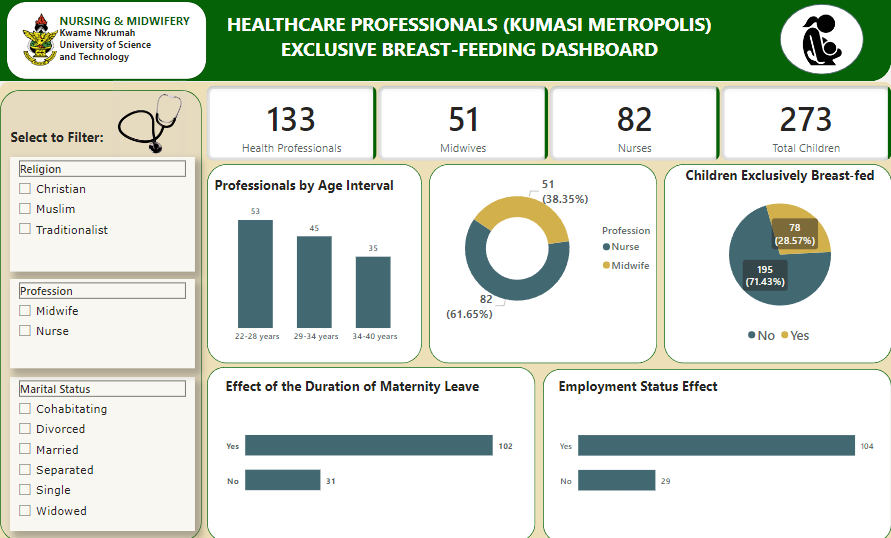

The page's visual inventory and layout, read from the dashboard file:
{"tool":"powerbi","page":{"name":"Dashboard","canvas":[1280,785],"ordinal":0},"visuals":[{"type":"shape","box":[0,122.3,1268.4,661],"z":0},{"type":"shape","box":[0,134.1,286.9,641.8],"z":1000},{"type":"shape","box":[772.6,529.8,495.8,246.2],"z":2000},{"type":"shape","box":[293.7,528.1,466.9,247.9],"z":3000},{"type":"shape","box":[609.6,239.4,324.3,283.6],"z":4000},{"type":"shape","box":[0,0,1267.7,121.5],"z":5000},{"type":"textbox","box":[294.3,15.6,746,99.7],"z":6000},{"type":"shape","box":[9,6.5,286,112.1],"z":7000,"group":"g1"},{"type":"shape","box":[293.7,239.4,305.6,283.6],"z":7000},{"type":"image","box":[9,19,102.8,84.1],"z":8000,"group":"g1"},{"type":"image","box":[161.3,118.9,103.6,125.6],"z":8000},{"type":"textbox","box":[80.6,19,218,46.7],"z":9000,"group":"g1"},{"type":"cardVisual","fields":{"Data":["Exclusive BreastFeeding.Profession","Mid.Profession","nurs.Profession","Exclusive BreastFeeding.Number of Children"]},"box":[288.6,122.3,986.5,117.2],"z":9000},{"type":"textbox","box":[80.3,37.6,154.5,74.7],"z":10000,"group":"g1"},{"type":"donutChart","fields":{"Category":["Exclusive BreastFeeding.Profession"],"Y":["Exclusive BreastFeeding.Total Professinals"]},"box":[609.6,241.1,343,234.3],"z":10000},{"type":"clusteredColumnChart","title":"Professionals by Age Interval","fields":{"Category":["Exclusive BreastFeeding.Age Interval"],"Y":["Exclusive BreastFeeding.Total Professinals"]},"box":[300.5,256.4,298.8,246.2],"z":11000},{"type":"shape","box":[944,239.4,324.3,283.6],"z":12000},{"type":"pieChart","title":"Children Exclusively Breast-fed","fields":{"Category":["Exclusive BreastFeeding.Practiced Exclusive Breastfeeding for all Children"],"Y":["Exclusive BreastFeeding.Number of Children"]},"box":[942.4,241.1,332.8,261.5],"z":13000},{"type":"clusteredBarChart","title":"Effect of the Duration of Maternity Leave","fields":{"Category":["Exclusive BreastFeeding.Duration of Maternity leave affect your practice of exclusive breastfeeding"],"Y":["Exclusive BreastFeeding.Total Professinals"]},"box":[315.3,541.8,421,213.3],"z":14000},{"type":"clusteredBarChart","title":"Employment Status Effect","fields":{"Category":["Exclusive BreastFeeding.Effect of employment status on the practice of exclusive breastfeeding"],"Y":["Exclusive BreastFeeding.Total Professinals"]},"box":[789.5,541.6,460.1,213.9],"z":15000},{"type":"shape","box":[1108.7,11.9,118.9,100.2],"z":16000},{"type":"image","box":[1127.4,18.7,81.5,88.3],"z":17000},{"type":"slicer","title":"Effect of the Duration of Maternity Leave","fields":{"Values":["Exclusive BreastFeeding.Religion"]},"box":[13.6,229.2,263,163],"z":18000},{"type":"slicer","title":"Effect of the Duration of Maternity Leave","fields":{"Values":["Exclusive BreastFeeding.Marital Status"]},"box":[13.6,541.6,263,219],"z":19000},{"type":"slicer","title":"Effect of the Duration of Maternity Leave","fields":{"Values":["Exclusive BreastFeeding.Profession"]},"box":[13.6,402.4,263,127.3],"z":20000},{"type":"textbox","box":[10.2,181.7,185.1,39.1],"z":21000},{"type":"group","id":"g1","title":"Group 1","box":[9,6.5,289.7,112.1],"z":22000}]}

Visuals, with their boxes in screenshot pixels (x1, y1, x2, y2), scaled from the page's 1280x785 canvas onto the 891x538 screenshot:
shape: [0, 84, 883, 537]
shape: [0, 92, 200, 532]
shape: [538, 363, 883, 532]
shape: [204, 362, 529, 532]
shape: [424, 164, 650, 358]
shape: [0, 0, 882, 83]
textbox: [205, 11, 724, 79]
shape: [6, 4, 205, 81]
shape: [204, 164, 417, 358]
image: [6, 13, 78, 71]
image: [112, 81, 184, 168]
textbox: [56, 13, 208, 45]
cardVisual - Exclusive BreastFeeding.Profession x Mid.Profession: [201, 84, 888, 164]
textbox: [56, 26, 163, 77]
donutChart - Exclusive BreastFeeding.Profession x Exclusive BreastFeeding.Total Professinals: [424, 165, 663, 326]
"Professionals by Age Interval" clusteredColumnChart: [209, 176, 417, 344]
shape: [657, 164, 883, 358]
"Children Exclusively Breast-fed" pieChart: [656, 165, 888, 344]
"Effect of the Duration of Maternity Leave" clusteredBarChart: [219, 371, 513, 518]
"Employment Status Effect" clusteredBarChart: [550, 371, 870, 518]
shape: [772, 8, 855, 77]
image: [785, 13, 842, 73]
"Effect of the Duration of Maternity Leave" slicer: [9, 157, 193, 269]
"Effect of the Duration of Maternity Leave" slicer: [9, 371, 193, 521]
"Effect of the Duration of Maternity Leave" slicer: [9, 276, 193, 363]
textbox: [7, 125, 136, 151]
"Group 1" group: [6, 4, 208, 81]
